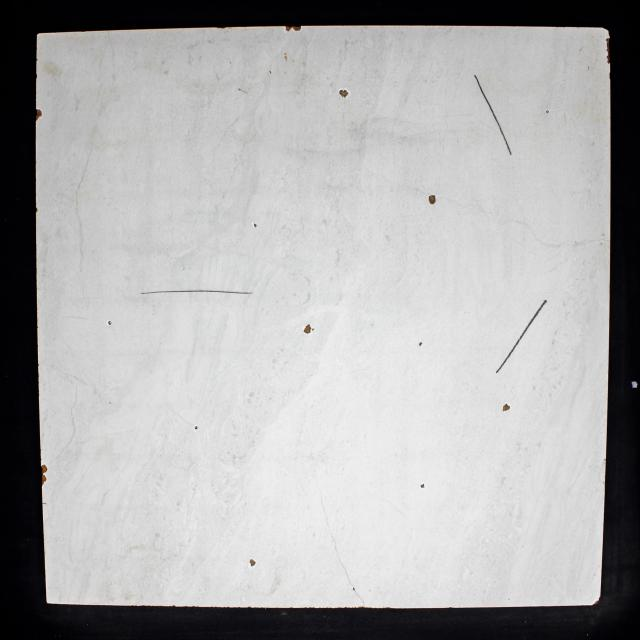edge-chipping: (605, 37, 610, 65), (35, 108, 43, 122), (284, 26, 302, 32), (41, 474, 47, 486), (41, 464, 48, 473)
hole: (302, 323, 314, 334), (502, 402, 512, 412), (428, 194, 437, 205), (339, 89, 349, 98), (249, 558, 256, 568), (420, 483, 425, 489), (418, 341, 423, 347), (108, 320, 112, 326), (546, 109, 550, 114), (253, 223, 257, 228), (352, 587, 356, 591), (194, 426, 198, 430)
line: (521, 299, 548, 336), (496, 337, 521, 374), (474, 75, 494, 112), (494, 115, 512, 156), (337, 553, 353, 587), (141, 290, 252, 294), (327, 523, 338, 552), (319, 490, 328, 522), (355, 592, 365, 606)
